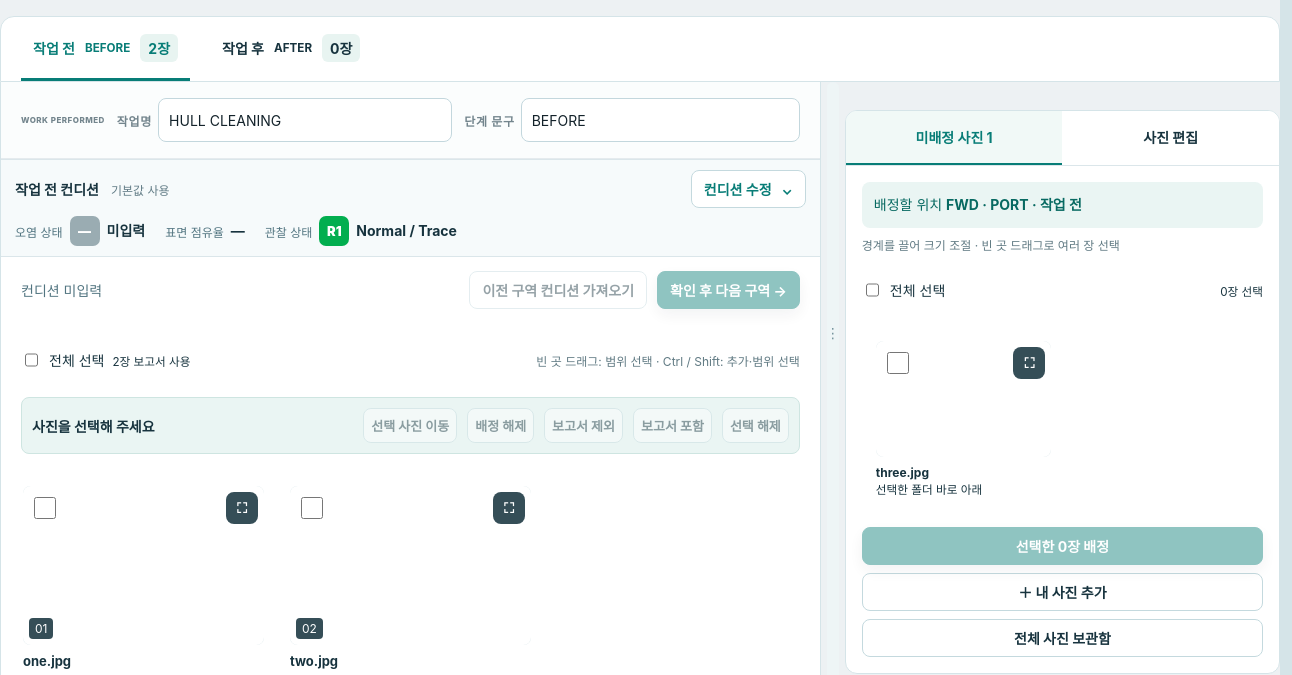
Test: selects gallery cards using click and Ctrl without losing checkbox support
Click the button named "one.jpg 사진 편집".
click(143, 565)  # box [23,486,264,644]
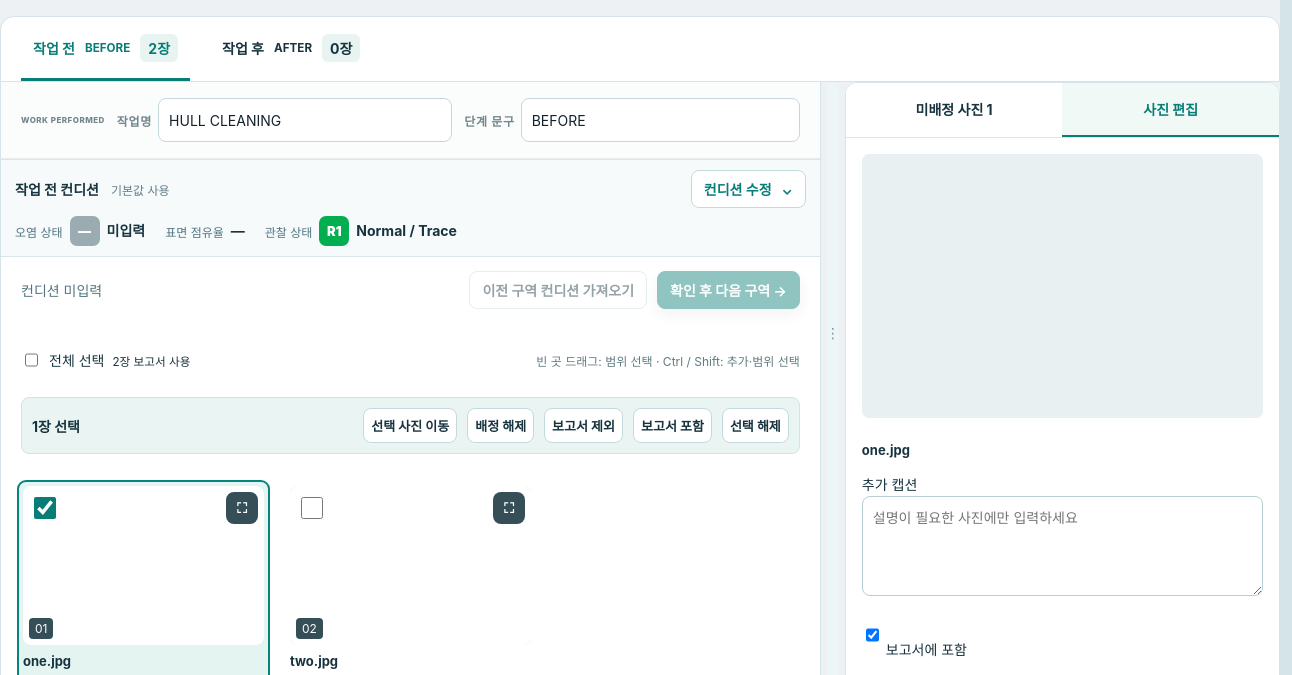
Click the button named "two.jpg 사진 편집".
click(410, 565)  # box [290,486,531,644]
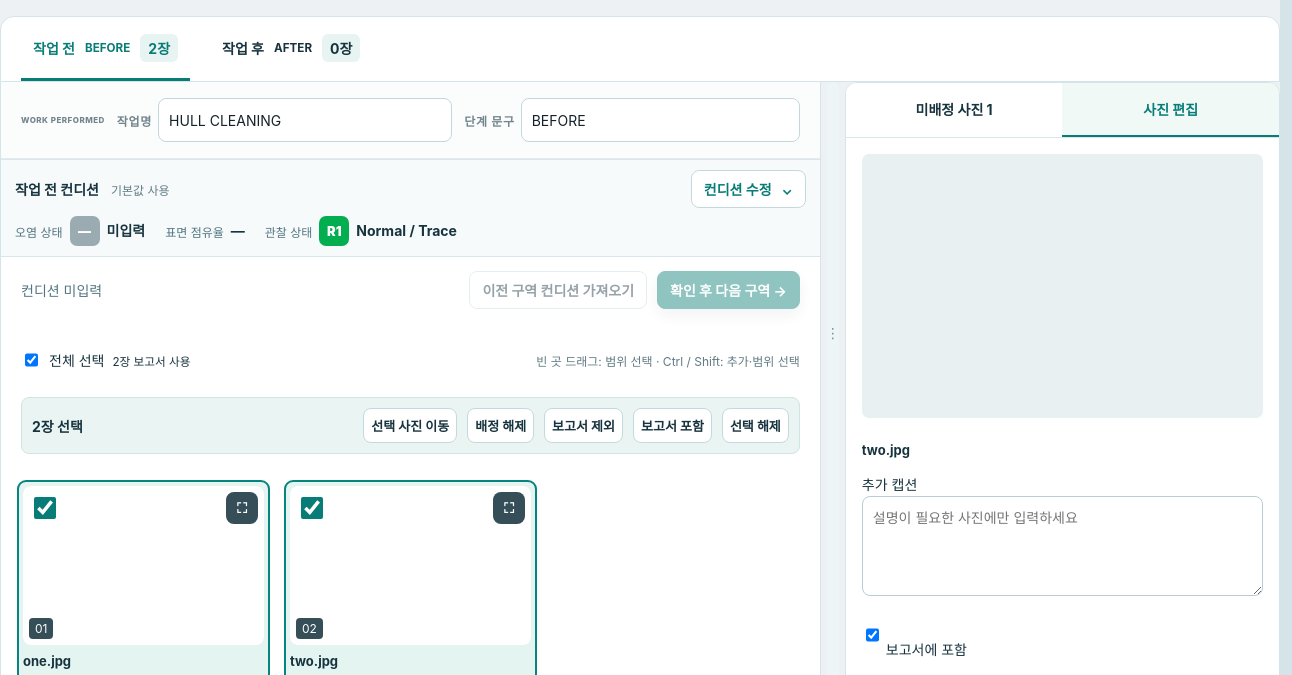
Expected: the checkbox named "one.jpg 사진 선택" is checked, [34,497,56,519]
Expected: the checkbox named "two.jpg 사진 선택" is checked, [301,497,323,519]
